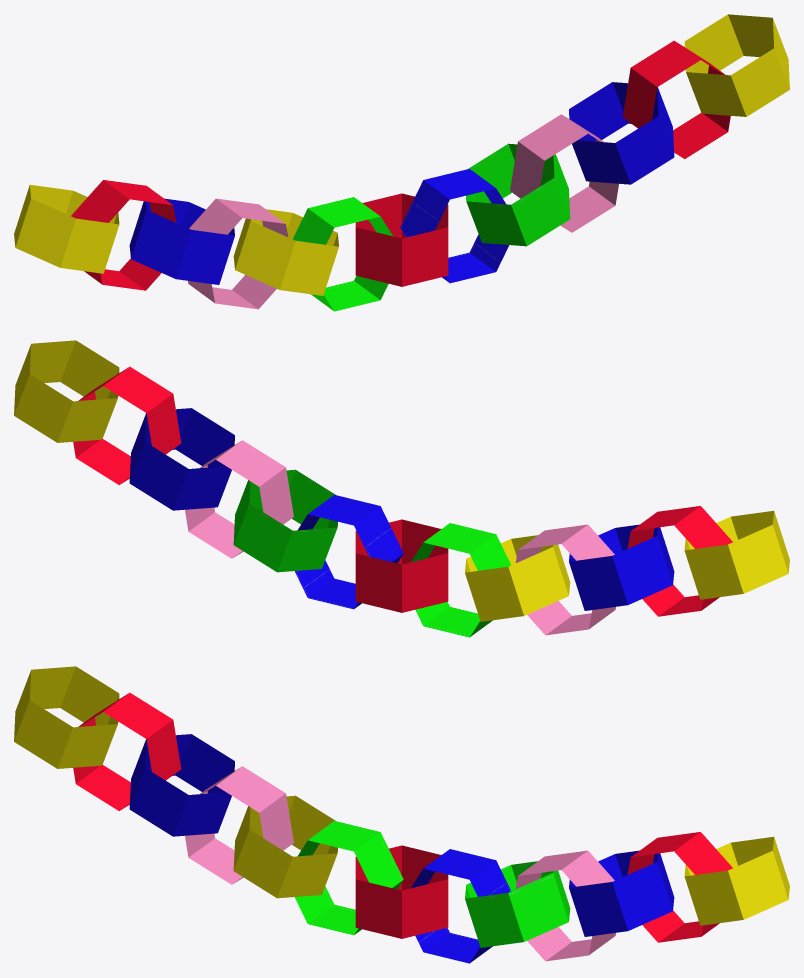
The model's file is PaperRing.fbx.
The picture shows the model from 3 angles, top to bottom: view 1: azimuth 30°, elevation 25°; view 2: azimuth 150°, elevation 25°; view 3: azimuth 330°, elevation 25°; orthographic projection.
Visible parts, largest first — view 1: Mesh; view 2: Mesh; view 3: Mesh.
Boxes of the visible parts, <box> form: Mesh: <box>14,14,789,311</box>; Mesh: <box>14,340,789,637</box>; Mesh: <box>14,666,789,963</box>.
Size of the model in its own units: 334 by 71.88 by 34.64.
1 material, 1 textured.
